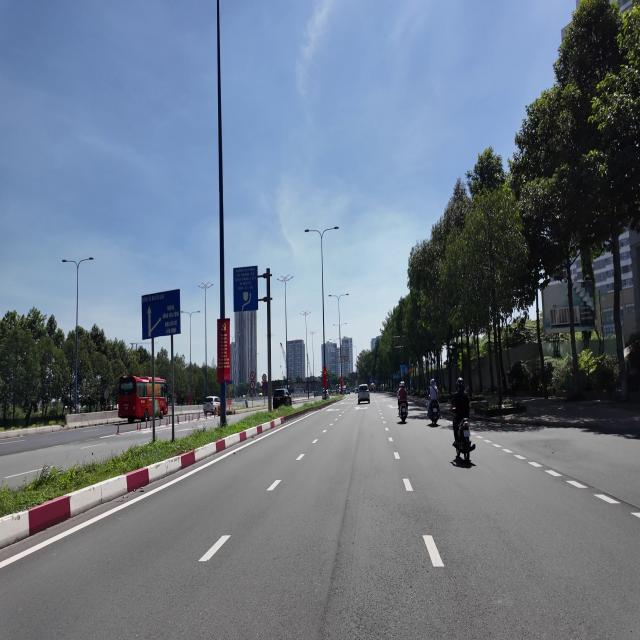car: (273, 389, 292, 409), (203, 397, 220, 415), (358, 384, 370, 404)
motorcycle: (455, 419, 475, 462), (428, 401, 440, 425), (398, 401, 408, 424)
